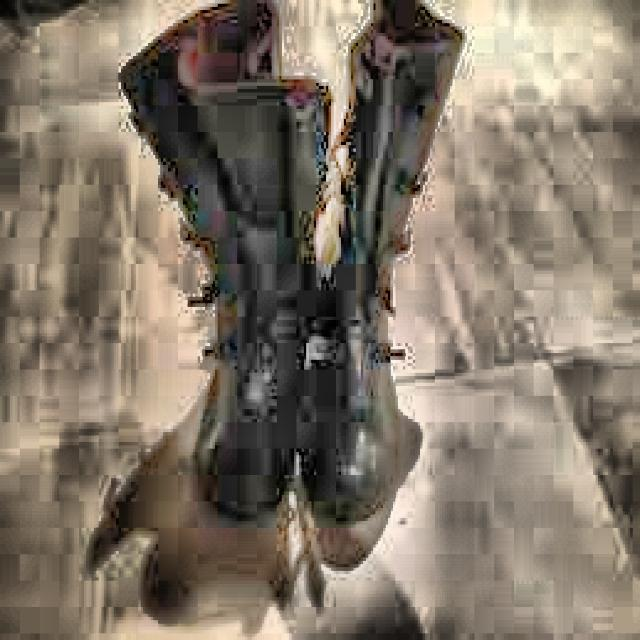shoes: (92, 0, 493, 546)
